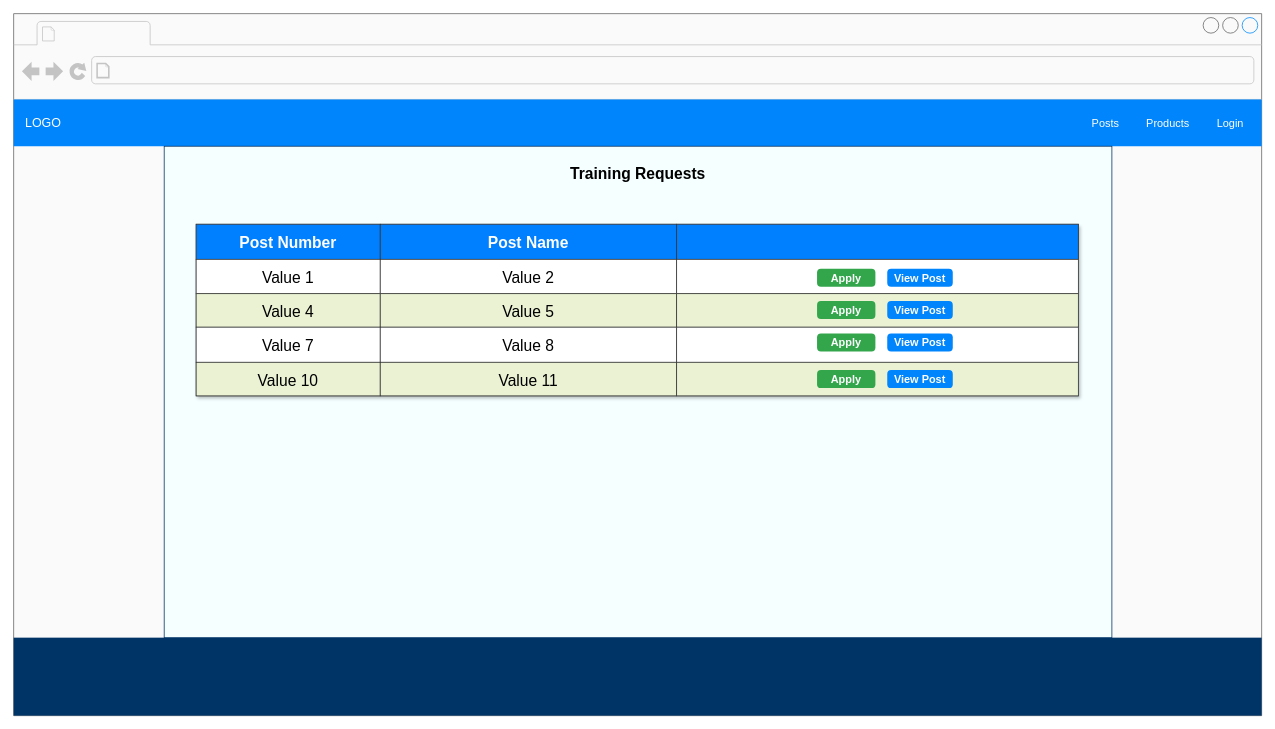
This 1275x729 diagram has some shape labels left out. Here are the shapes that lost their labels. From the top down, the centre of each, then its label:
At pixel 103 32: "Page 1".
At pixel 212 70: "https://www.draw.io".
